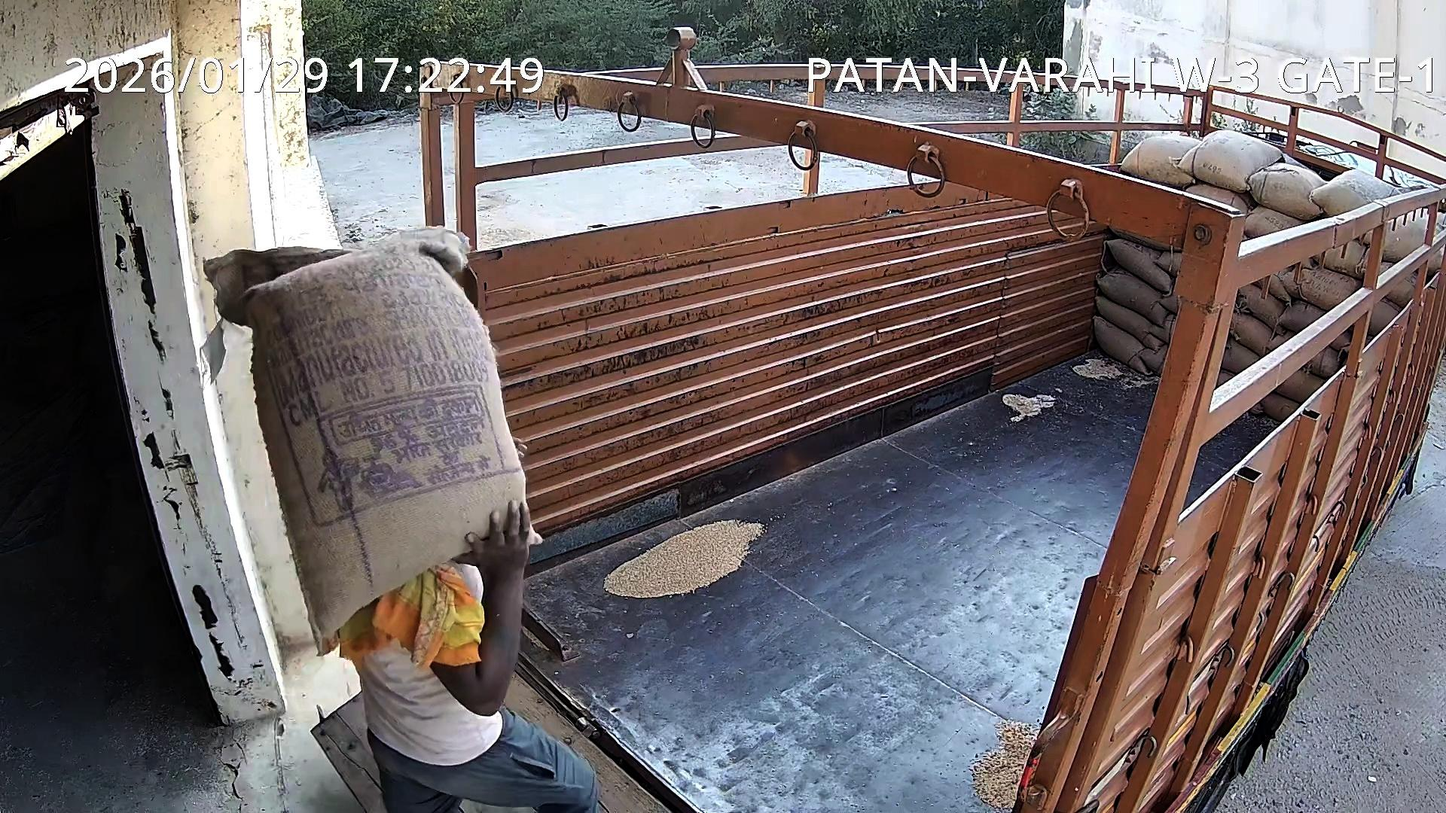Sack: (206, 227, 525, 653)
